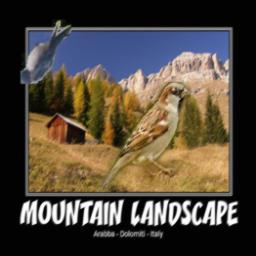Sparrow: (99, 82, 192, 191)
Swallow: (21, 20, 71, 84)
